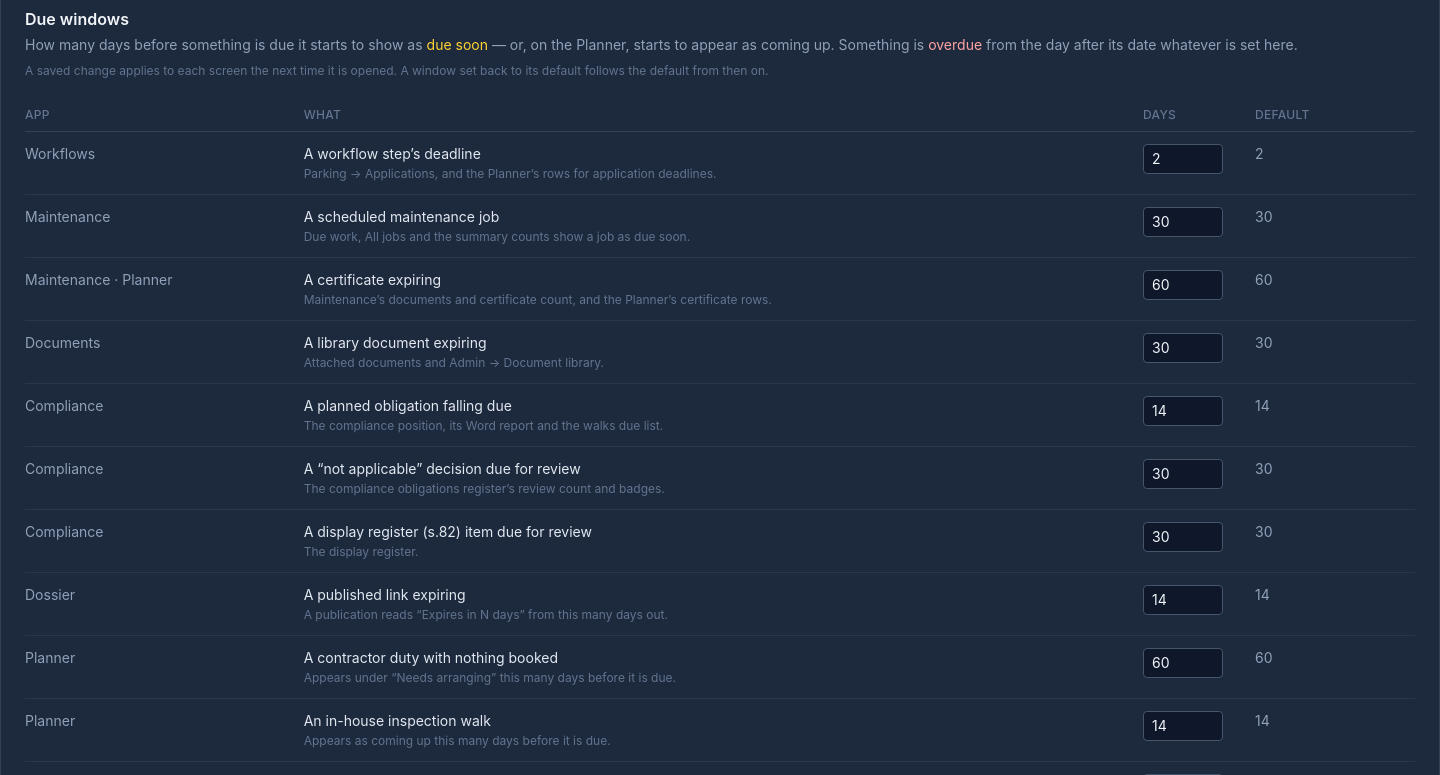
DueWindowsPanel › offers Save only once something has changed
The width and height of the screenshot is (1440, 775).
Replace the text in the number field named "A scheduled maintenance job — days" with "45" at (1183, 222), box top-left (1143, 207), bottom-right (1223, 237)
(page scrolled)
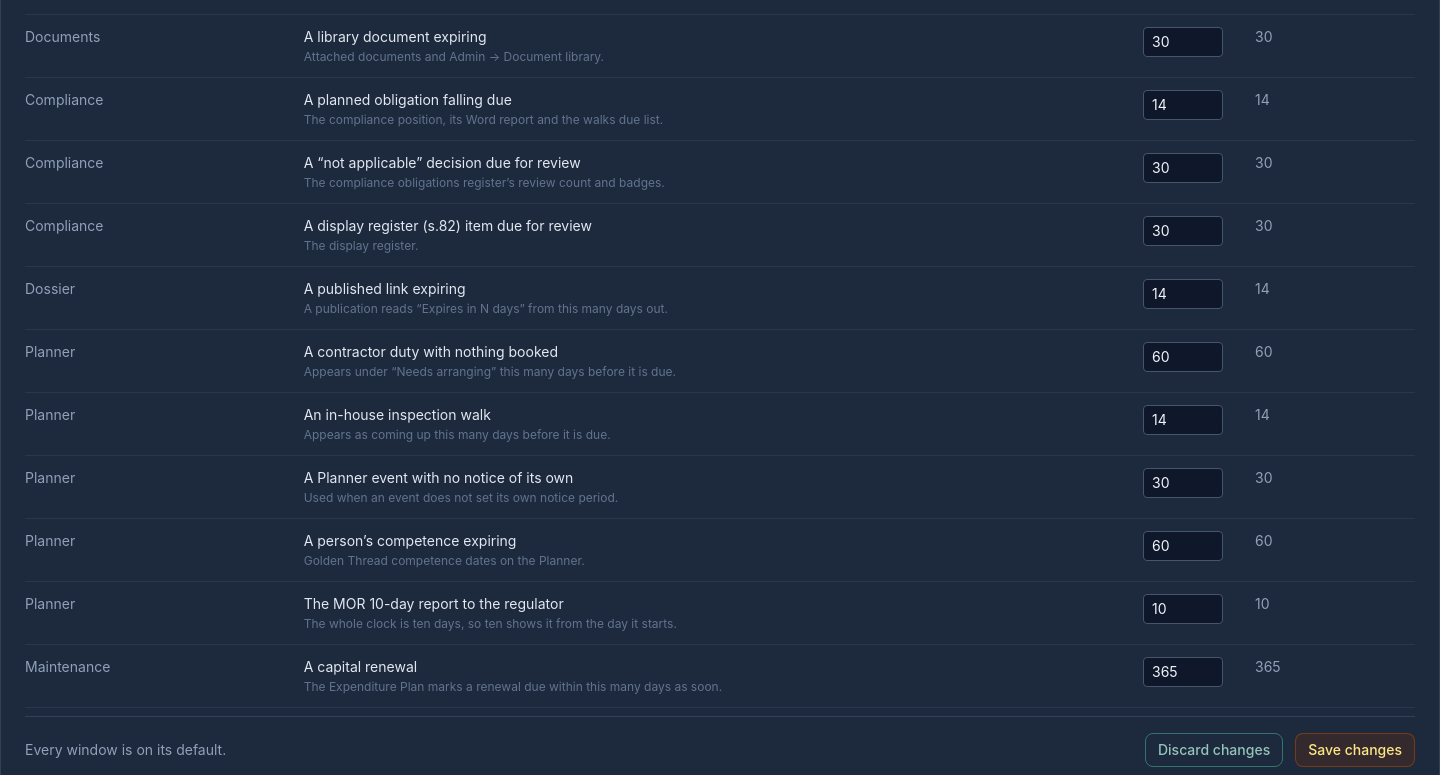
Check: the button "Save changes" is enabled, box top-left (1295, 733), bottom-right (1415, 767)
